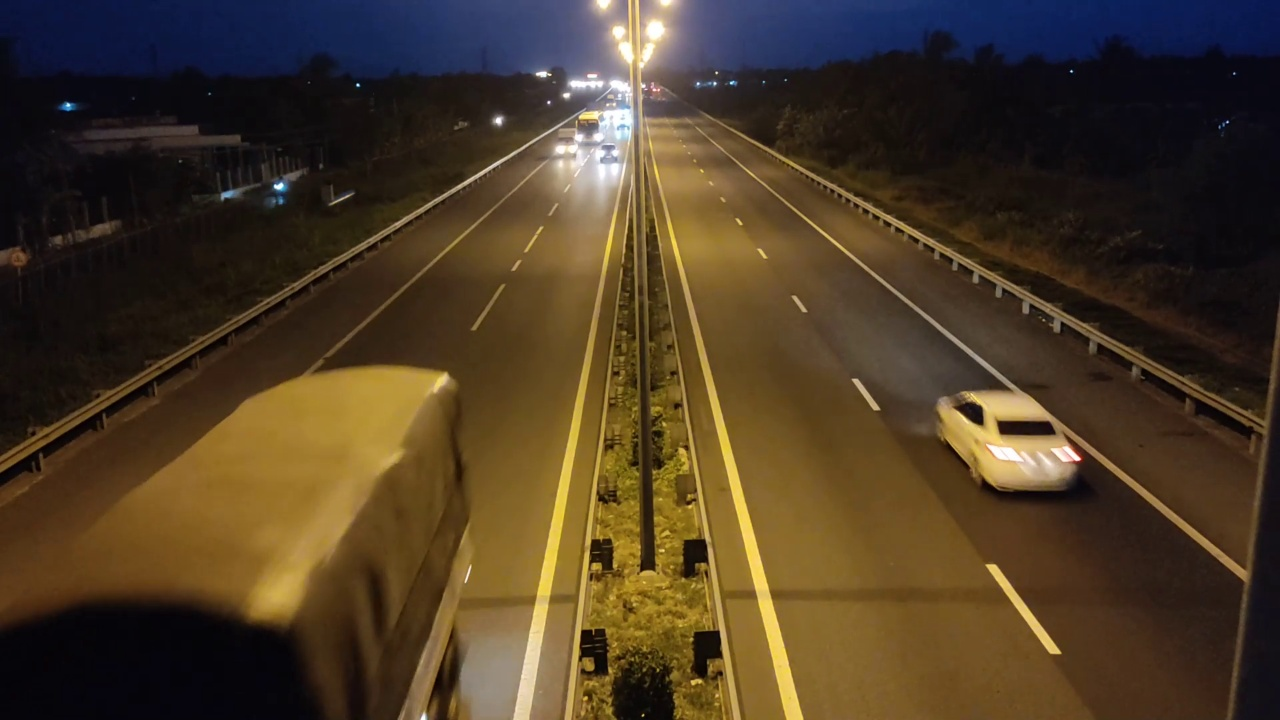car: (933, 387, 1085, 493)
